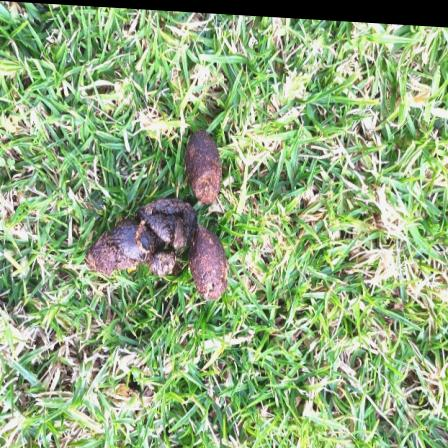dog-poop: (86, 122, 230, 307)
